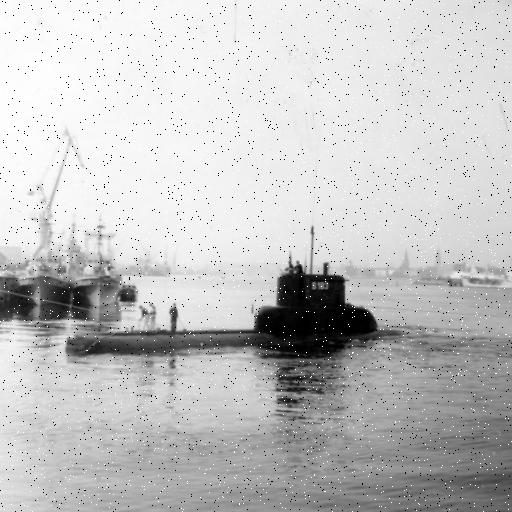submarine: (69, 274, 409, 360)
